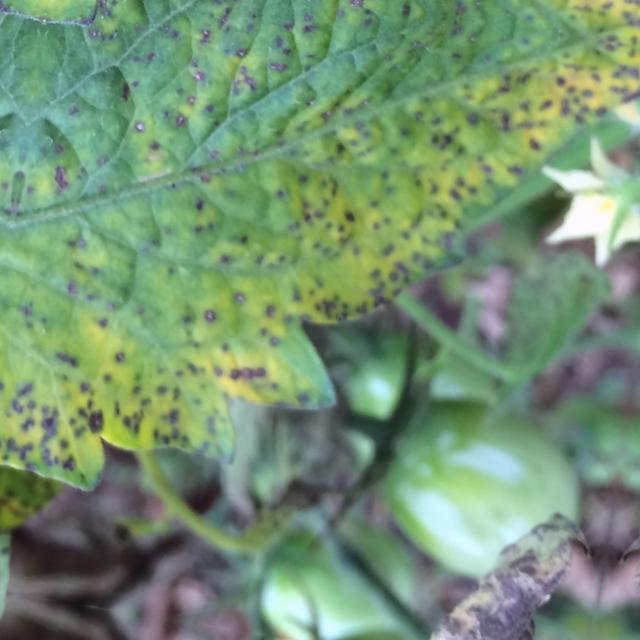Tomato Septoria leaf spot: (0, 0, 640, 640), (43, 0, 640, 121)
